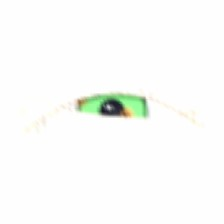foreign_body_visible: (111, 103, 140, 126)
